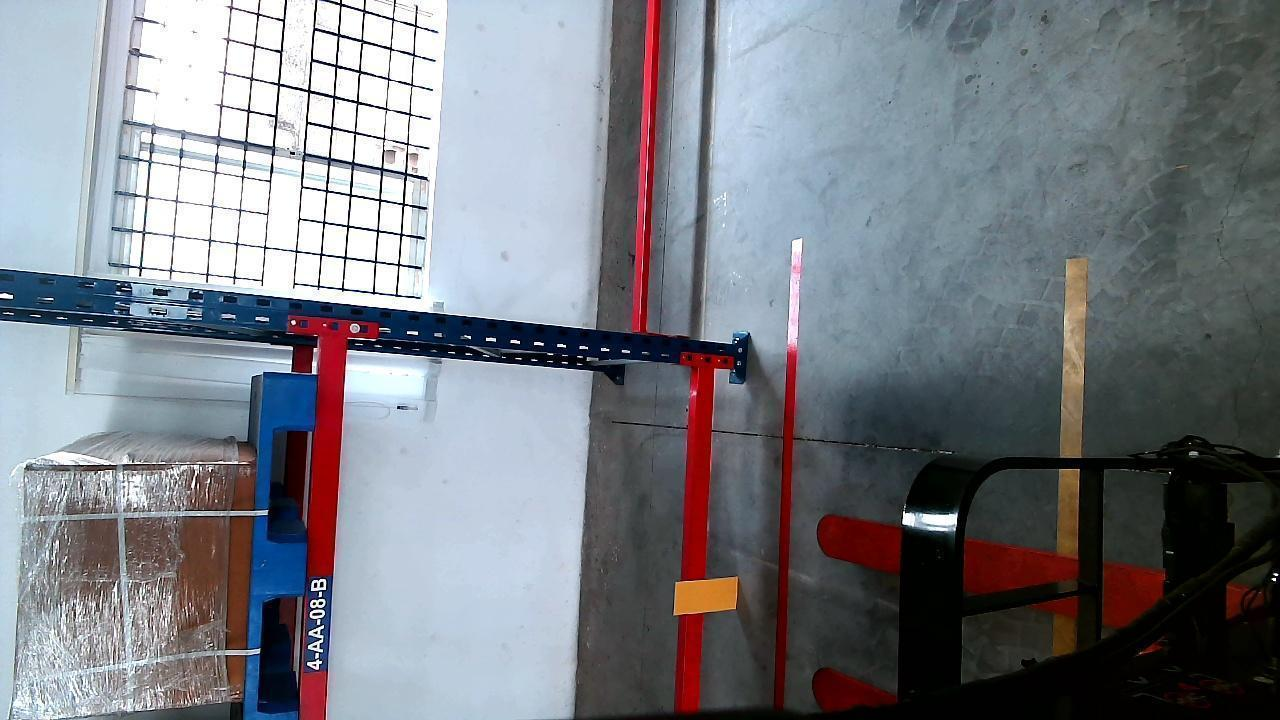red_line: (775, 242, 805, 719)
yellow_line: (1056, 250, 1088, 607)
